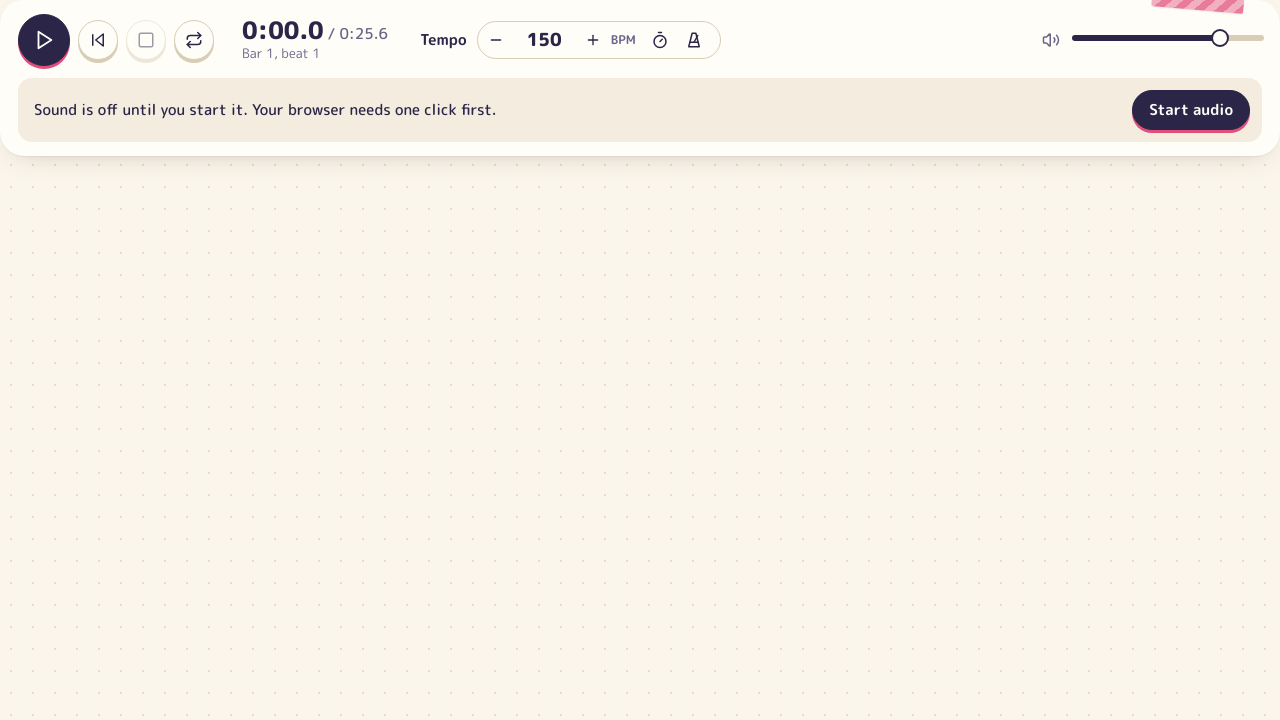
it: TransportBar tempo field › clamps what's left in the field when it loses focus
Replace the text in the number field with "500". click: (544, 40)
box: [514,25,575,55]
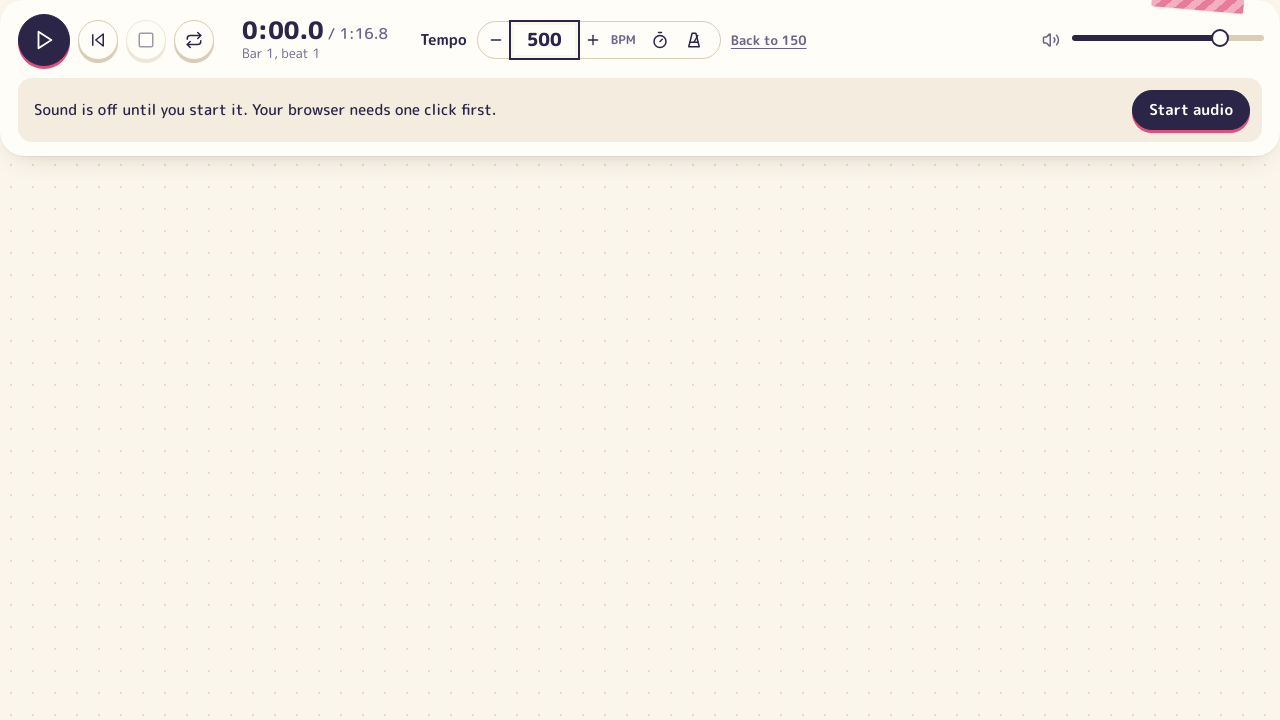
Press Tab
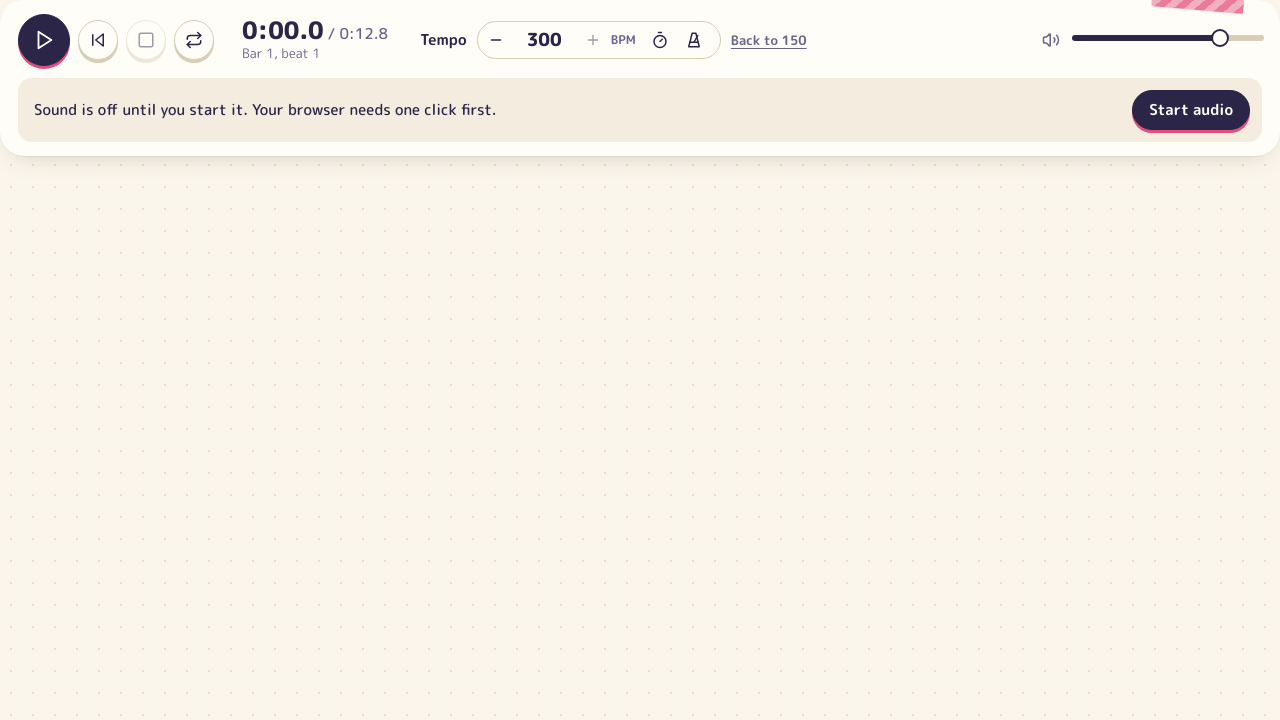
expect the number field holds "300": met, box [514,25,575,55]
